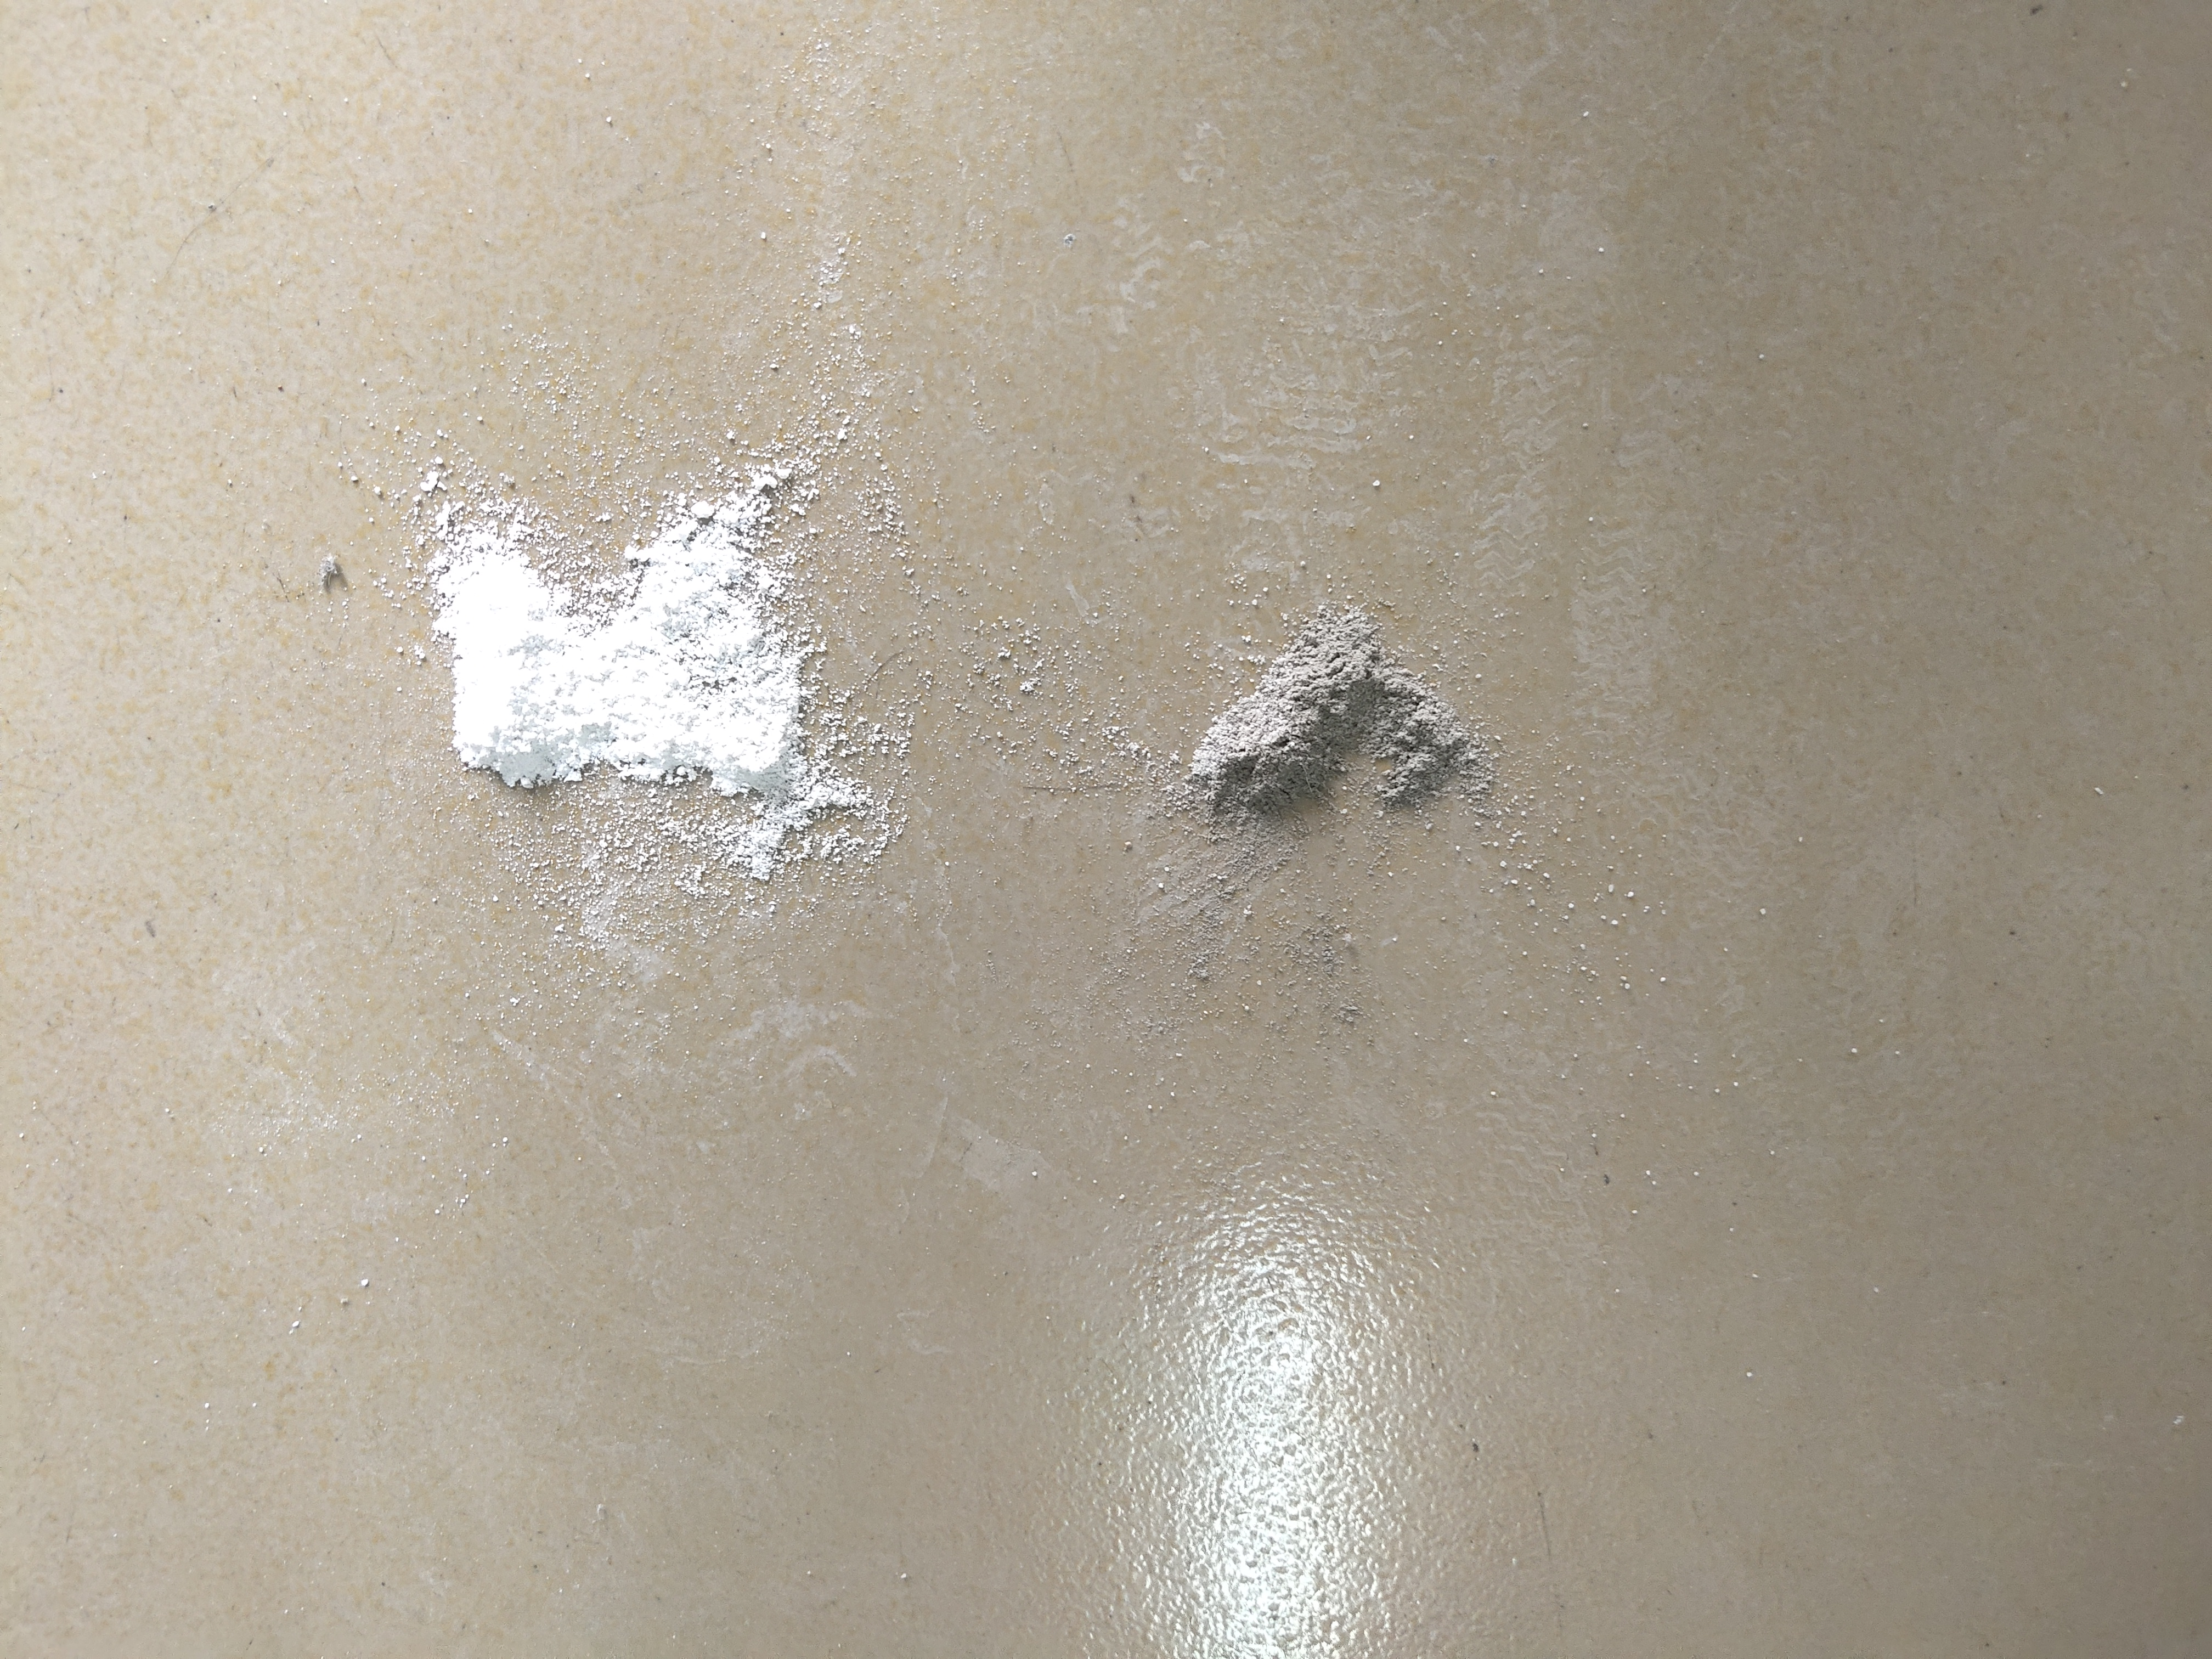ash pile: (392, 434, 906, 885), (1183, 592, 1514, 835)
reflection: (1116, 1166, 1425, 1656)
